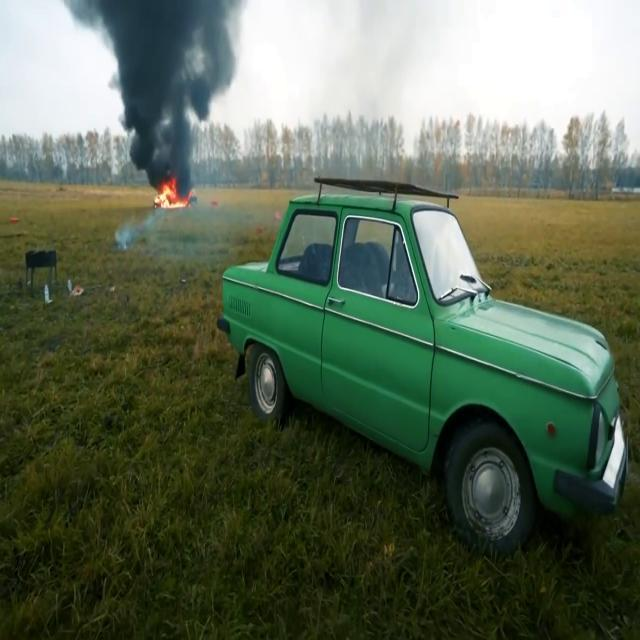Fire: (152, 178, 190, 216)
Smoke: (58, 4, 268, 176), (111, 211, 156, 249)
